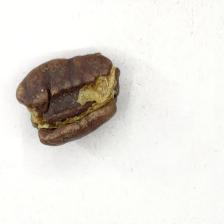NG: (18, 60, 117, 139)
